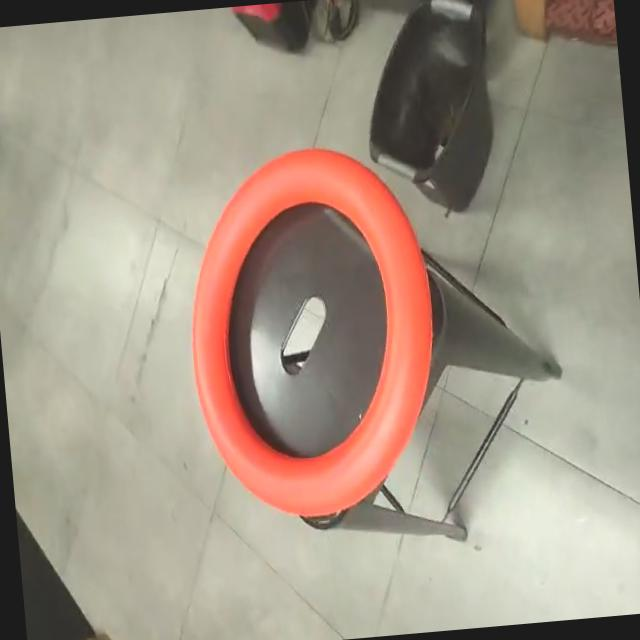note: (169, 132, 456, 523)
